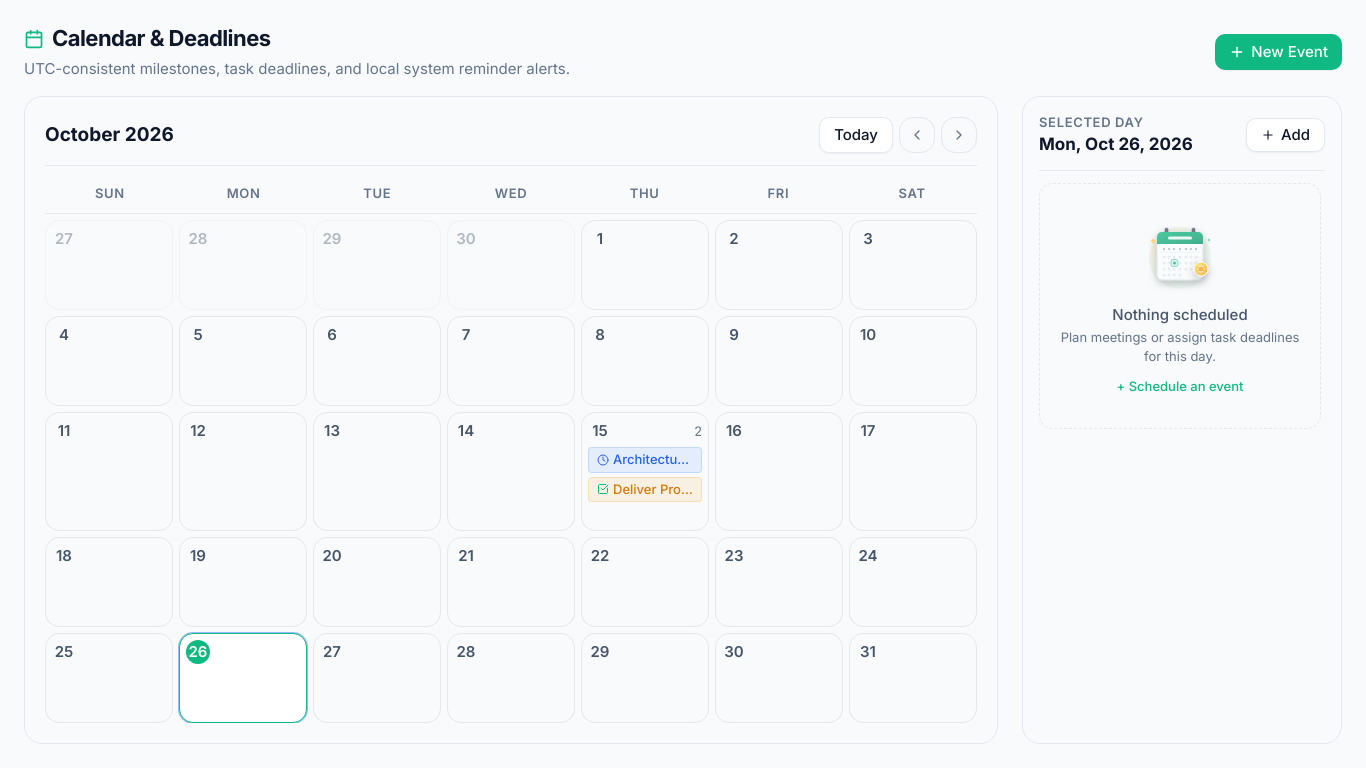
káno̱ Desktop Calendar & Deadlines › updates selected day agenda when clicking on a date cell
Expected: the element titled "Architecture Review Meeting" is shown, [588,447,702,473]
Find the cell button/div
Click the text "15" at (600, 431), box [588,419,702,443]
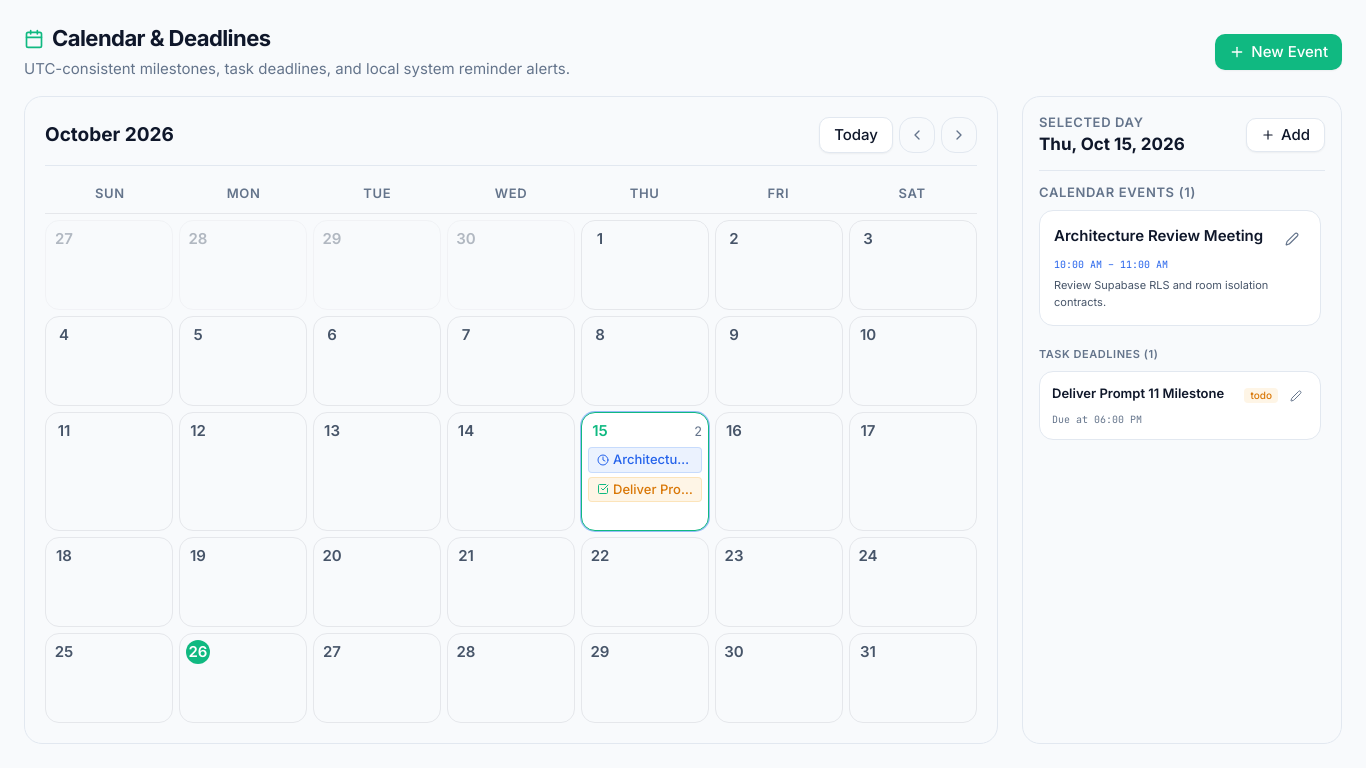
Result: the text "Calendar Events (1)" is shown at [1039,184,1196,200]
Result: the text "Task Deadlines (1)" is shown at [1039,347,1158,361]
